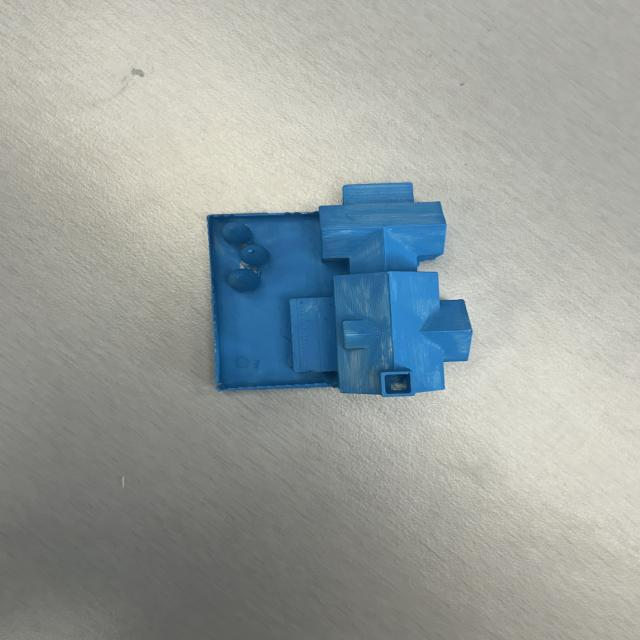house: (206, 183, 476, 398)
